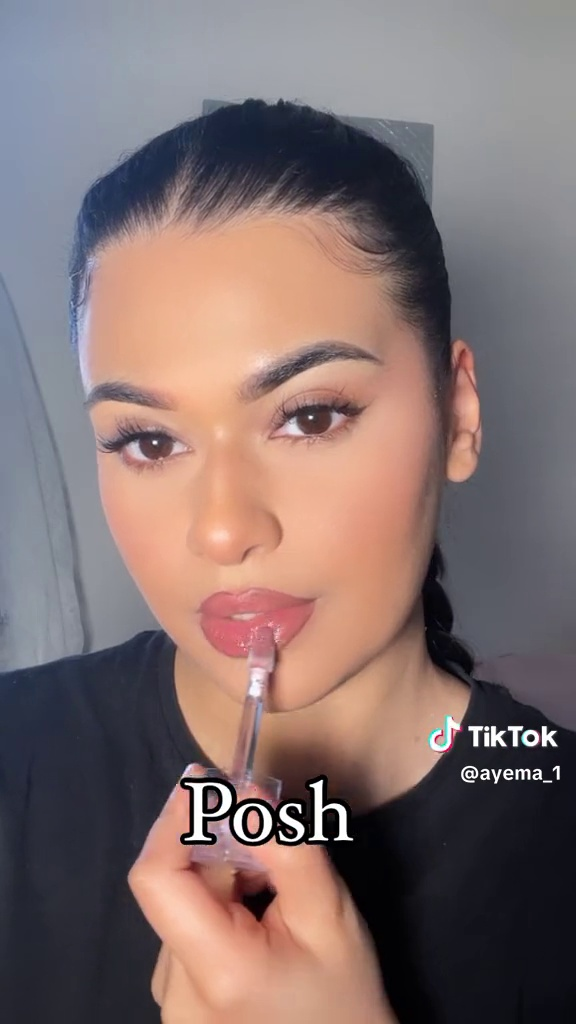train' :'yolo_data/train/images',: (221, 602, 320, 860)
